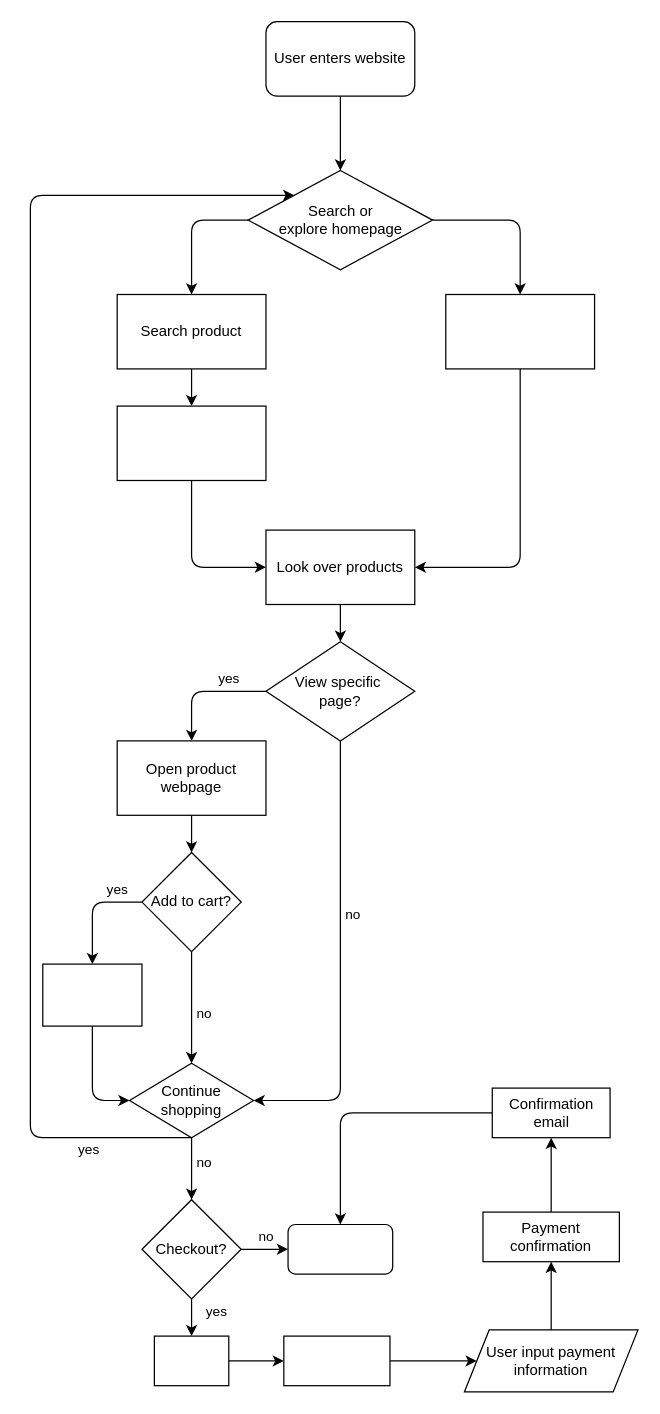
Some shapes in this 660 by 1414 pixel diagram are drawn without their labels. Here are the shapes that lost their labels. From the top down, the box of each, then its label:
(445, 293, 595, 369): Explore products
(116, 405, 266, 480): Input search
(42, 963, 142, 1026): Receive confirmation
(287, 1223, 393, 1274): Leave website
(153, 1335, 229, 1386): View cart
(283, 1335, 390, 1386): View Payment
